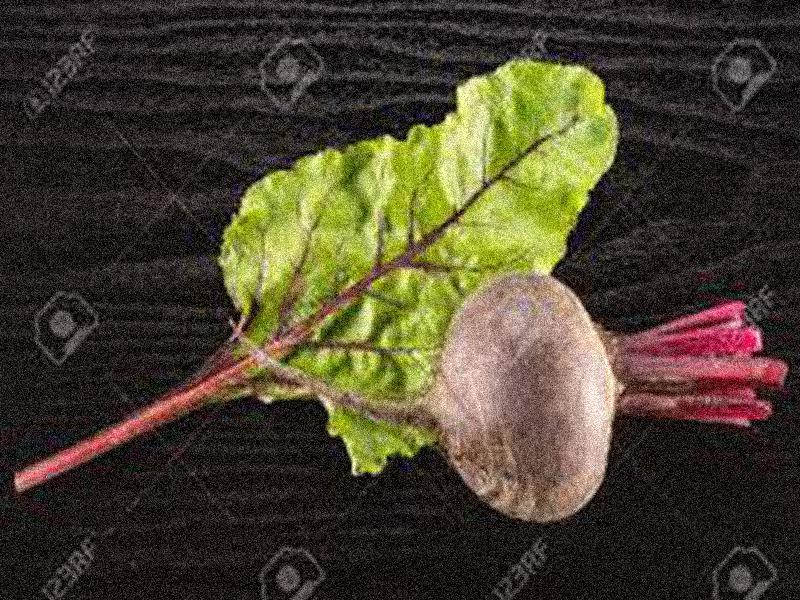Beet: (230, 272, 788, 521)
